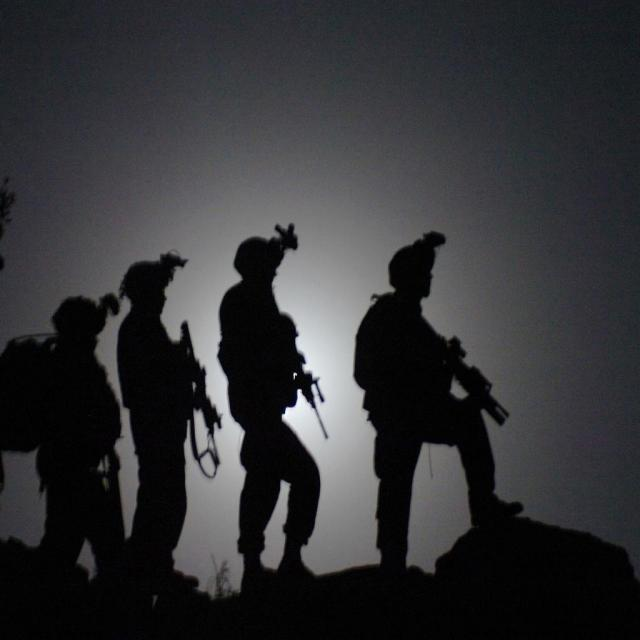weapon: (184, 314, 223, 478), (451, 331, 509, 422), (294, 341, 326, 438)
